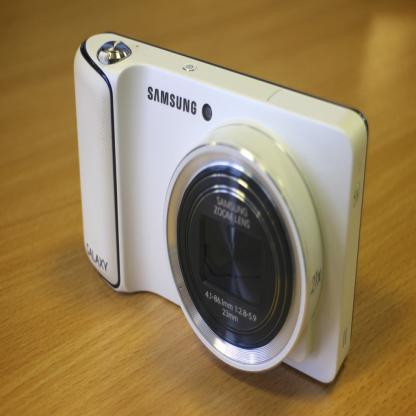Camera: (61, 45, 376, 400)
